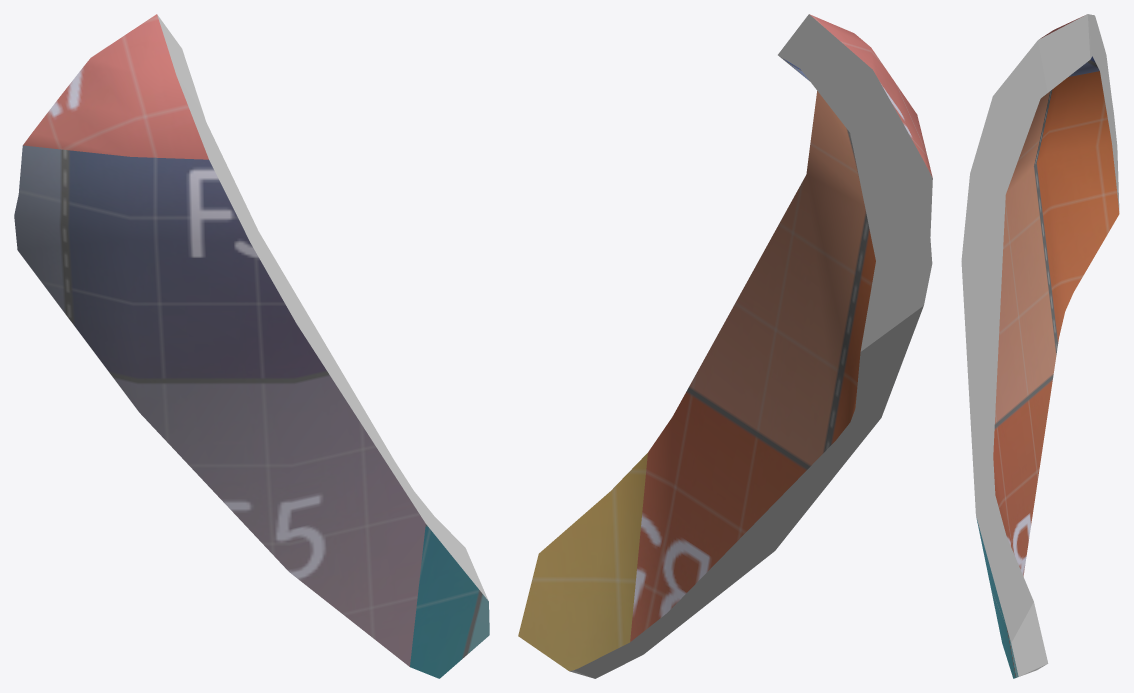
File: MediumVase_SHAT_cell_014.fbx
The picture shows the model from 3 angles, left to right: view 1: azimuth 30°, elevation 25°; view 2: azimuth 150°, elevation 25°; view 3: azimuth 270°, elevation 25°; orthographic projection. The views are drawn at different scales.
Visible parts, largest first — view 1: MediumVase_SHAT_cell_014; view 2: MediumVase_SHAT_cell_014; view 3: MediumVase_SHAT_cell_014.
Boxes of the visible parts, <box> form: MediumVase_SHAT_cell_014: <box>14,14,489,678</box>; MediumVase_SHAT_cell_014: <box>518,14,932,678</box>; MediumVase_SHAT_cell_014: <box>961,14,1119,678</box>.
Size of the model in its own units: 0.6088 by 0.9604 by 0.2416.
2 materials, 1 textured.
